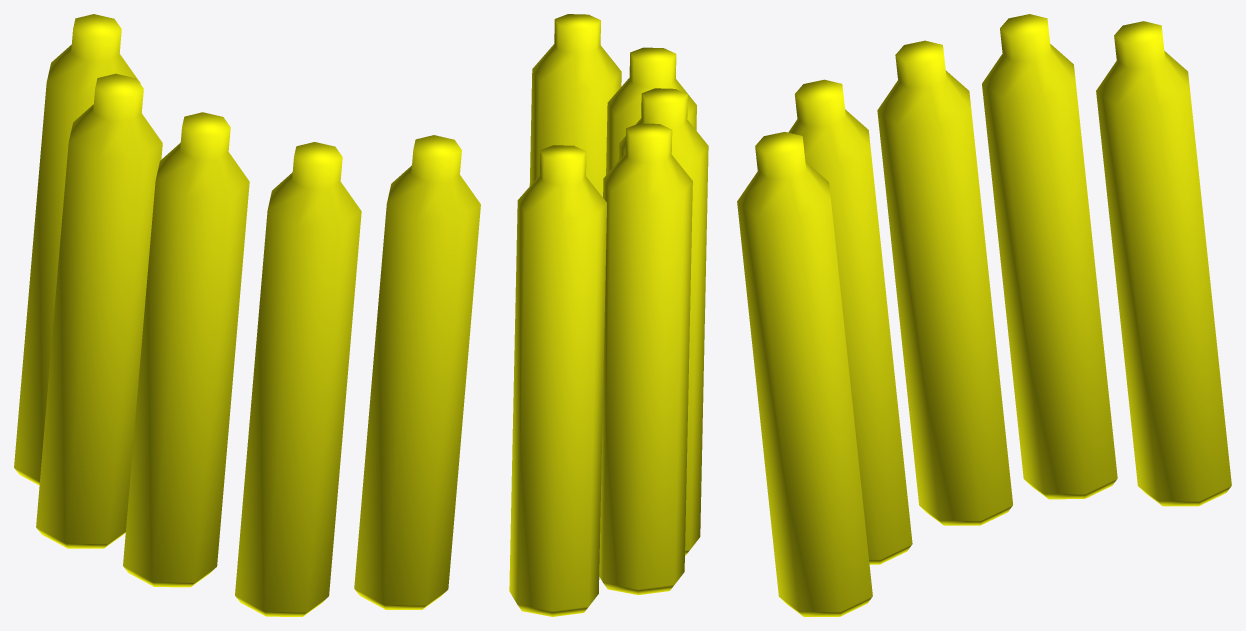
File: char_gun_mag_rModel.glb
The picture shows the model from 3 angles, left to right: view 1: azimuth 30°, elevation 25°; view 2: azimuth 150°, elevation 25°; view 3: azimuth 270°, elevation 25°; orthographic projection. The views are drawn at different scales.
Visible parts, largest first — view 1: character_gun_mag_r_0; view 2: character_gun_mag_r_0; view 3: character_gun_mag_r_0.
Part boxes in pixels (bbox=[...]): character_gun_mag_r_0: bbox=[14, 14, 480, 616]; character_gun_mag_r_0: bbox=[509, 14, 708, 616]; character_gun_mag_r_0: bbox=[737, 14, 1231, 616].
Bounding box in the file's own units: 0.1493 × 0.2425 × 0.2179.
1 material, 1 textured.
